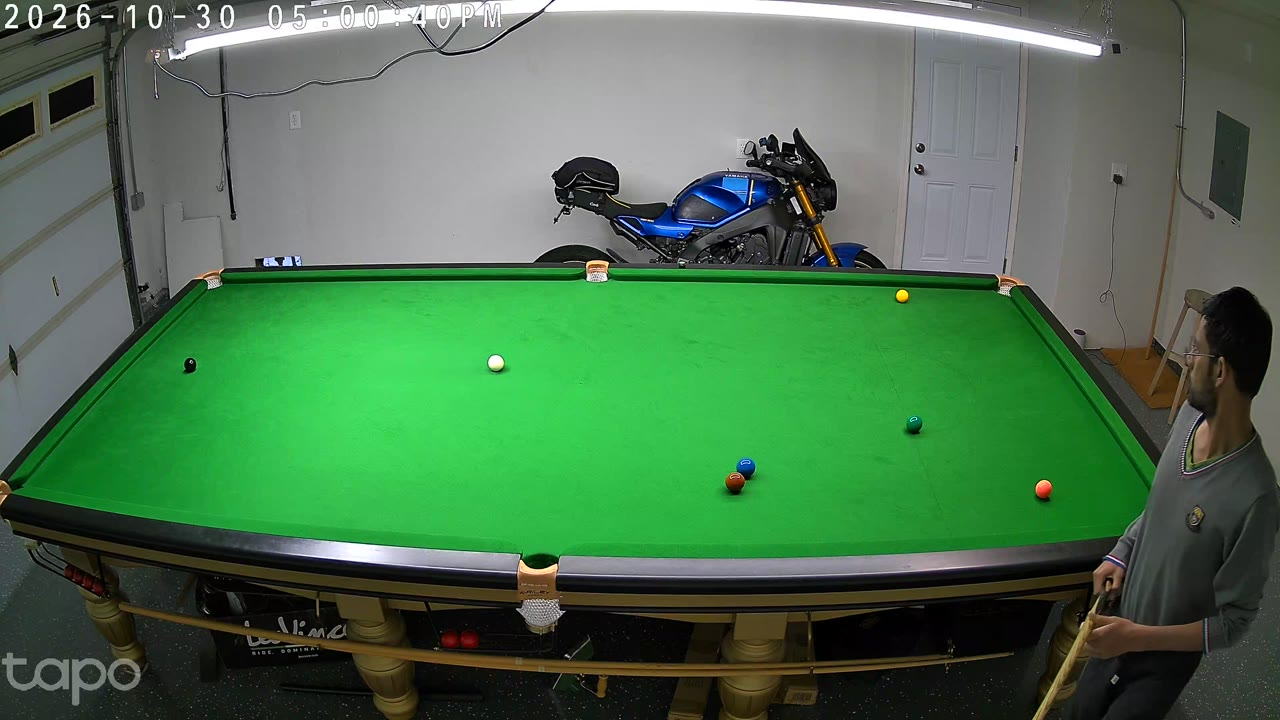black: (184, 356, 196, 376)
blue: (737, 456, 755, 482)
brown: (726, 472, 743, 495)
green: (906, 414, 922, 436)
pink: (1035, 477, 1052, 502)
white: (489, 353, 503, 374)
yellow: (896, 288, 908, 305)
